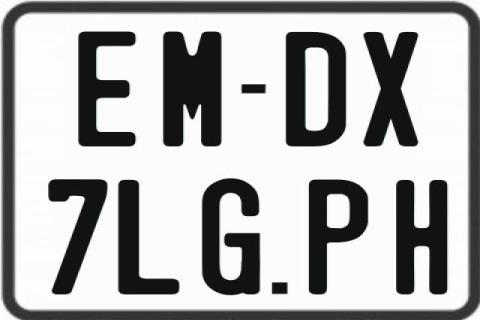0: (48, 179, 109, 299)
D: (284, 32, 345, 146)
E: (77, 32, 141, 150)
G: (200, 177, 264, 293)
H: (394, 180, 450, 296)
L: (116, 178, 183, 296)
M: (163, 30, 222, 146)
P: (308, 178, 368, 294)
X: (364, 30, 423, 144)
